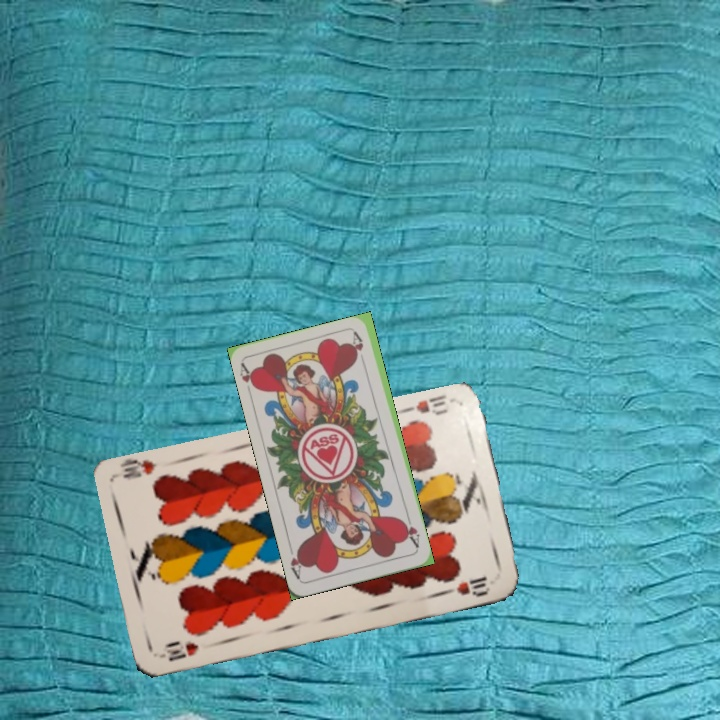H10: (399, 390, 451, 418), (156, 638, 201, 664)
HA: (399, 512, 422, 551), (236, 359, 261, 392)
